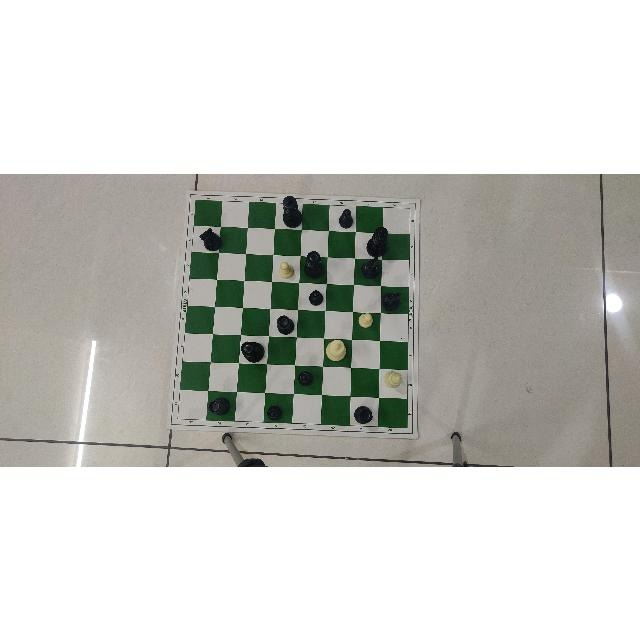black-king: (366, 226, 389, 256), (281, 195, 302, 227)
black-knight: (199, 227, 223, 250), (360, 255, 380, 278), (381, 291, 401, 311)
black-pawn: (339, 208, 353, 228), (309, 289, 324, 305), (297, 370, 312, 385), (266, 404, 281, 419)
black-queen: (302, 249, 325, 279), (241, 340, 265, 362)
black-rook: (207, 397, 231, 415), (354, 405, 373, 423), (277, 315, 295, 333)
white-bishop: (384, 370, 402, 388)
white-king: (325, 339, 346, 361)
white-pawn: (277, 258, 295, 279), (358, 311, 373, 328)
